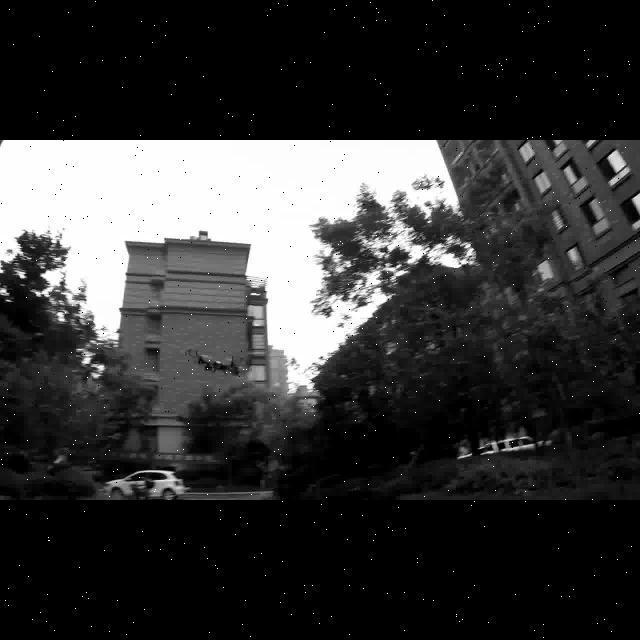Drons: (180, 339, 250, 381)
